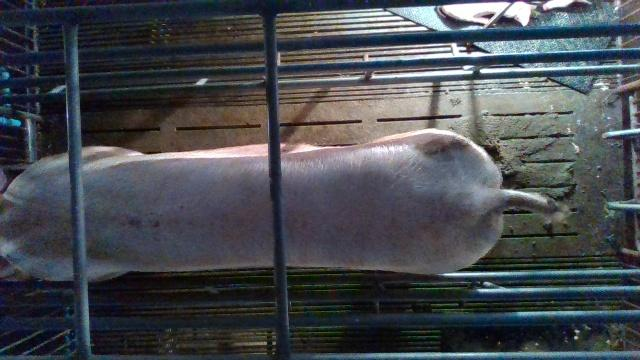piglet: (437, 1, 536, 26)
sow-stand-feed: (0, 128, 567, 284)
